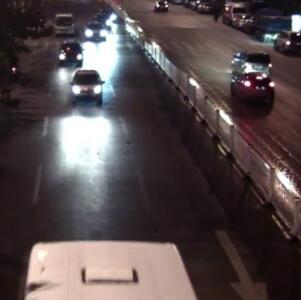bus: (21, 238, 199, 297)
car: (226, 69, 278, 106), (67, 66, 106, 107), (228, 49, 276, 77), (56, 36, 85, 67), (82, 18, 108, 46), (52, 12, 77, 39), (231, 12, 255, 30), (223, 4, 239, 23), (154, 1, 170, 11)
